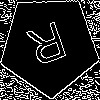R: (24, 20, 73, 76)
